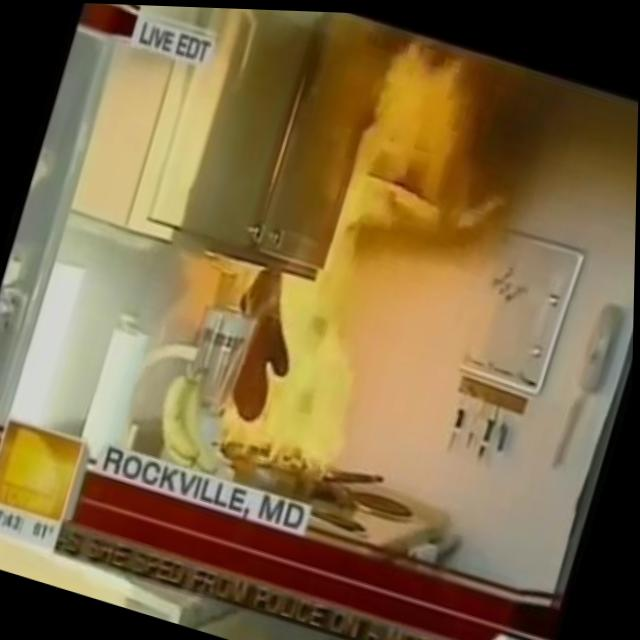fire: (190, 14, 511, 506)
